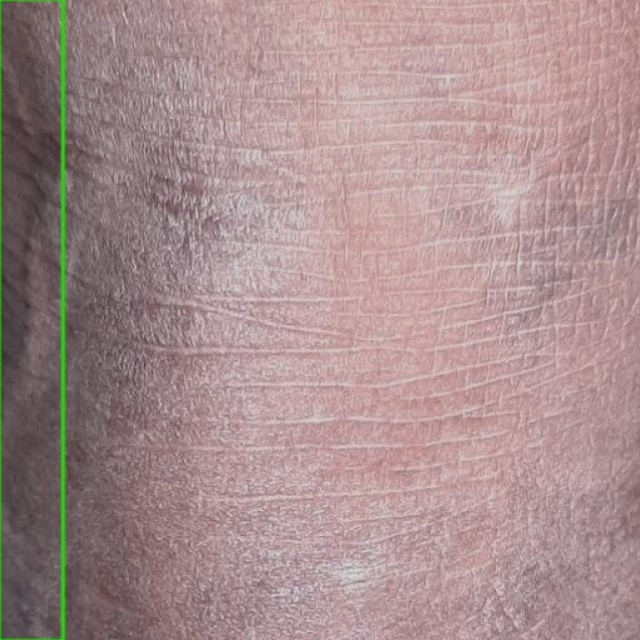Contact Dermatitis: (0, 0, 63, 639)
